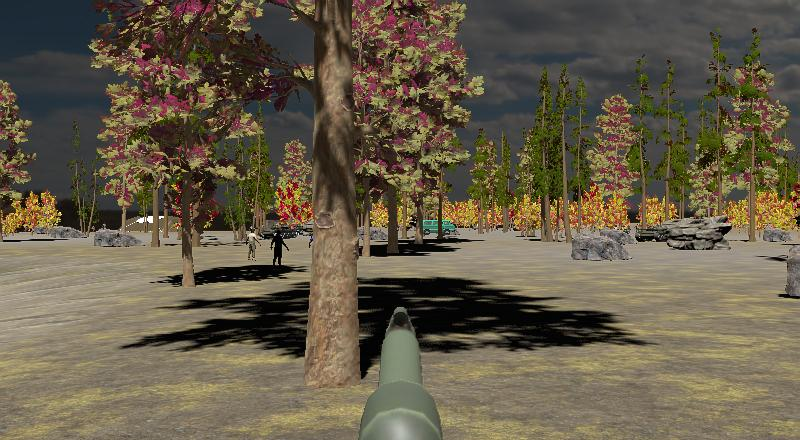Human: (245, 228, 261, 262)
Tank: (786, 229, 800, 302), (635, 224, 669, 242), (272, 219, 299, 239)
car: (410, 217, 458, 238)
